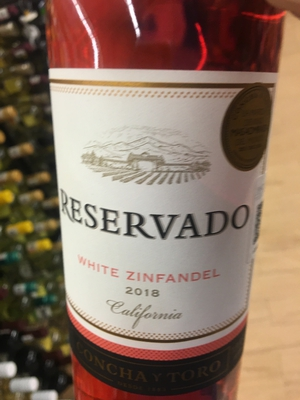reservado white zinfandel: (39, 2, 286, 400)
